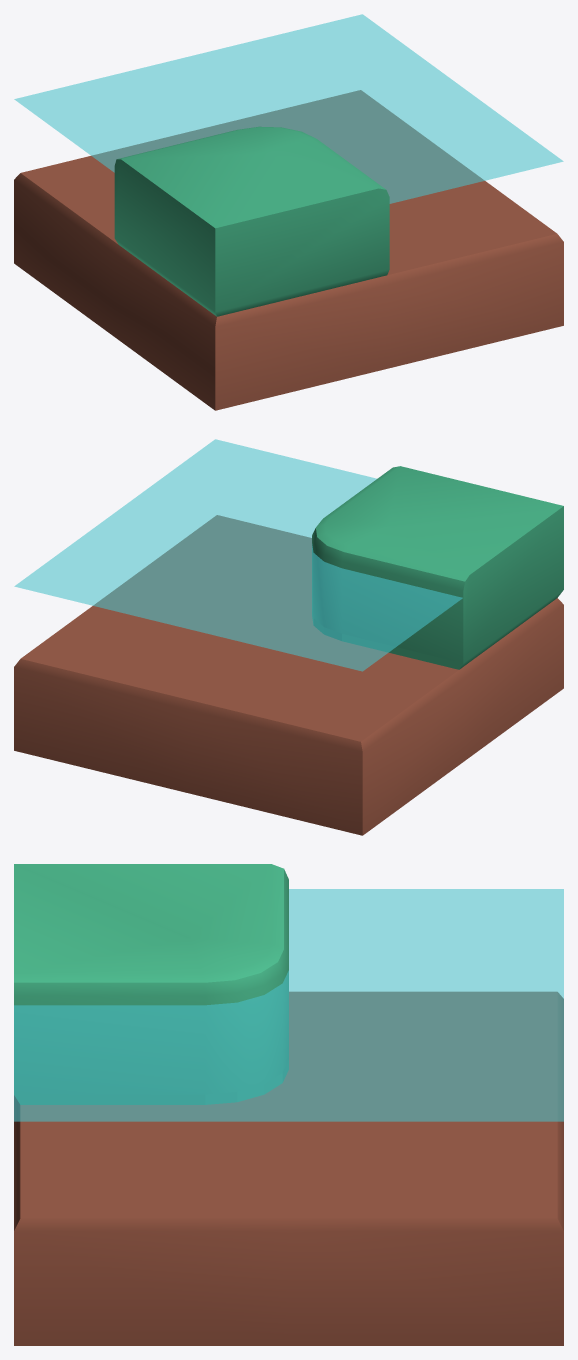
File: square_forest_waterOuterCorner_noSides.fbx
3 views of the same model, one above another, from view 1: azimuth 30°, elevation 25°; view 2: azimuth 150°, elevation 25°; view 3: azimuth 270°, elevation 25° (orthographic). The views are drawn at different scales.
Parts seen in each view (by area): view 1: square_forest_waterOuterCorner_noSides; view 2: square_forest_waterOuterCorner_noSides; view 3: square_forest_waterOuterCorner_noSides.
Boxes of the visible parts, box(x1,y1,x2,y2) form: square_forest_waterOuterCorner_noSides: box(14, 14, 563, 410); square_forest_waterOuterCorner_noSides: box(14, 439, 563, 835); square_forest_waterOuterCorner_noSides: box(14, 864, 563, 1345).
Bounding box in the file's own units: 2 × 1 × 2.
